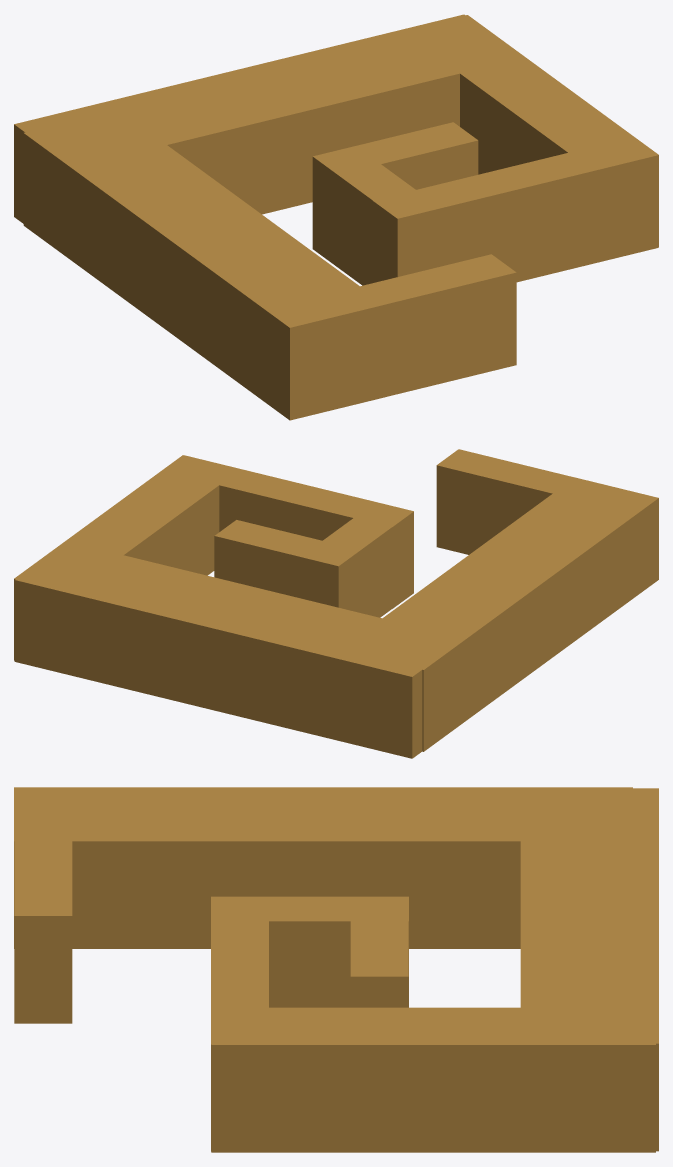
File: seashell.fbx
The picture shows the model from 3 angles, top to bottom: view 1: azimuth 30°, elevation 25°; view 2: azimuth 150°, elevation 25°; view 3: azimuth 270°, elevation 25°; orthographic projection. The views are drawn at different scales.
Visible parts, largest first — view 1: Seashell; view 2: Seashell; view 3: Seashell.
Part boxes in pixels (x1,y1,x2,y2): Seashell: [14, 14, 658, 420]; Seashell: [14, 449, 658, 758]; Seashell: [14, 787, 658, 1152].
Size of the model in its own units: 124 by 24.23 by 132.
